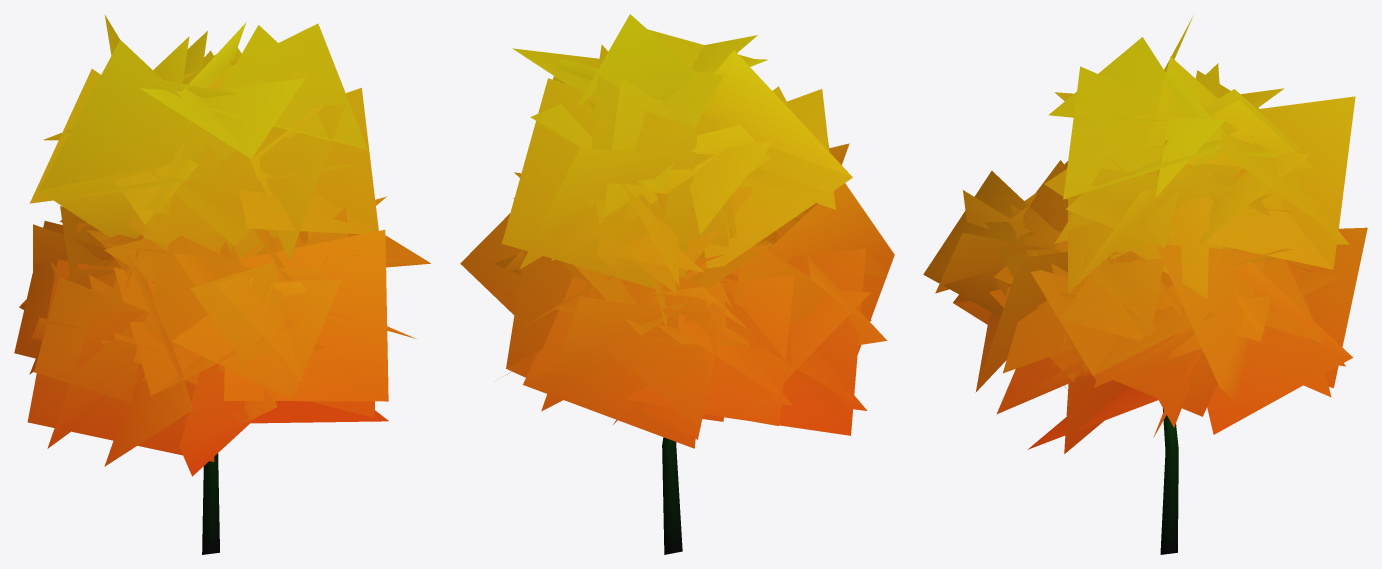
The model's file is small_tree_lod1.obj.
The picture shows the model from 3 angles, left to right: view 1: azimuth 30°, elevation 25°; view 2: azimuth 150°, elevation 25°; view 3: azimuth 270°, elevation 25°; orthographic projection. The views are drawn at different scales.
Visible parts, largest first — view 1: SmallTreeLoD1; view 2: SmallTreeLoD1; view 3: SmallTreeLoD1.
Part boxes in pixels (bbox=[...]): SmallTreeLoD1: bbox=[14, 14, 430, 554]; SmallTreeLoD1: bbox=[460, 14, 894, 554]; SmallTreeLoD1: bbox=[923, 17, 1367, 554].
Size of the model in its own units: 15.84 by 20.9 by 16.75.
